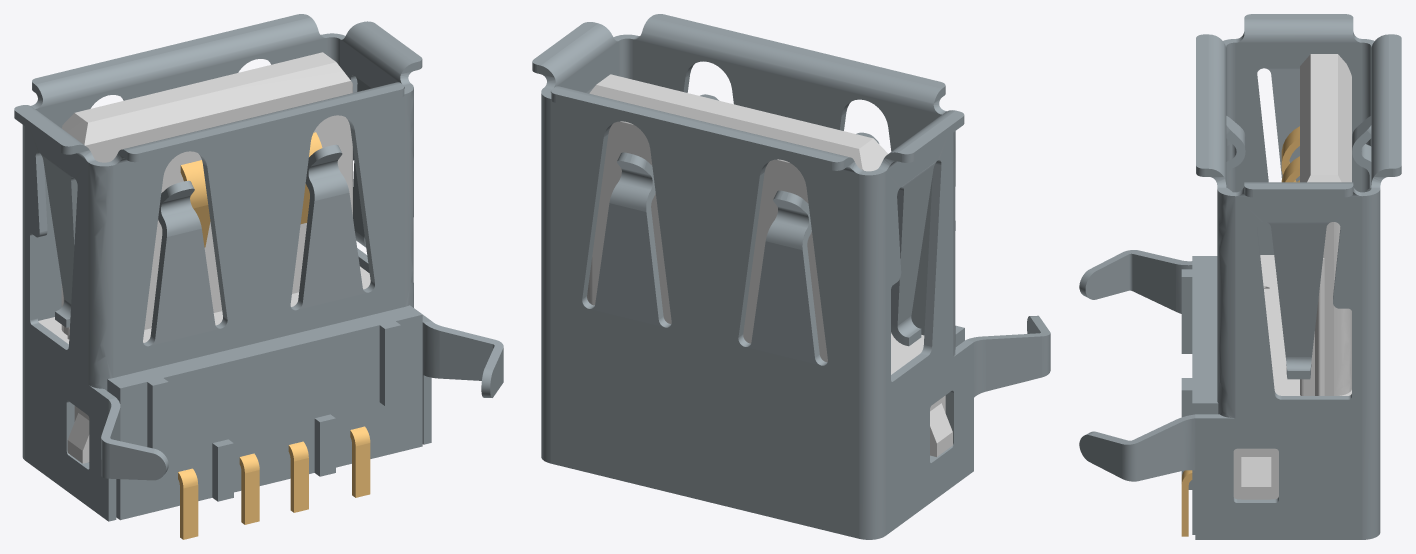
The model's file is sfe-usb-a_4.glb.
3 renders of one model, left to right at view 1: azimuth 30°, elevation 25°; view 2: azimuth 150°, elevation 25°; view 3: azimuth 270°, elevation 25°, orthographic. The views are drawn at different scales.
Parts seen in each view (by area): view 1: 0.3333333333333333_0.4166666666666667_0.4166666666666667_0, 0.75_0.75_0.75_0.85, 1_0.5833333333333334_0.25_0; view 2: 0.3333333333333333_0.4166666666666667_0.4166666666666667_0, 0.75_0.75_0.75_0.85; view 3: 0.3333333333333333_0.4166666666666667_0.4166666666666667_0, 0.75_0.75_0.75_0.85, 1_0.5833333333333334_0.25_0.
Part boxes in pixels (<box>): 0.3333333333333333_0.4166666666666667_0.4166666666666667_0: <box>14,14,503,521</box>; 0.75_0.75_0.75_0.85: <box>38,52,370,463</box>; 1_0.5833333333333334_0.25_0: <box>178,132,370,539</box>; 0.3333333333333333_0.4166666666666667_0.4166666666666667_0: <box>532,14,1050,539</box>; 0.75_0.75_0.75_0.85: <box>587,74,952,456</box>; 0.3333333333333333_0.4166666666666667_0.4166666666666667_0: <box>1079,14,1401,539</box>; 0.75_0.75_0.75_0.85: <box>1233,54,1351,499</box>; 1_0.5833333333333334_0.25_0: <box>1181,126,1299,536</box>.
Bounding box in the file's own units: 1.62 × 1.52 × 1.14.
